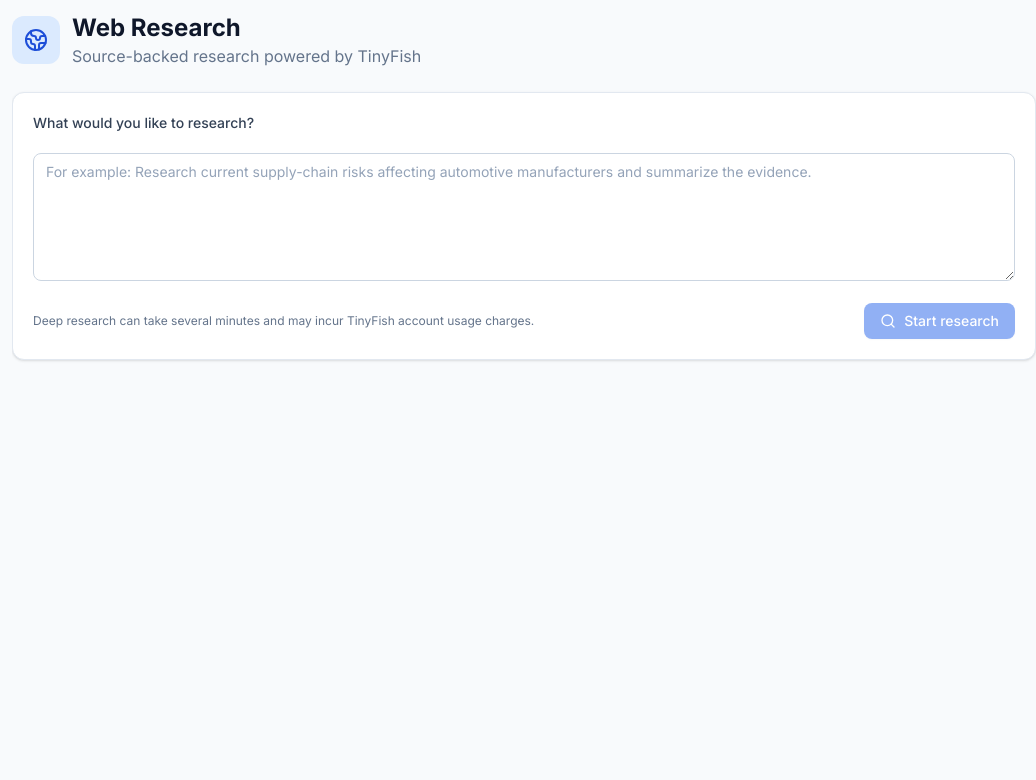
Test: WebResearchPage › submits a research query and displays the report and citations
Replace the text in the text box labelled "What would you like to research?" with "Research manufacturing trends": (524,217) [33,153,1015,281]
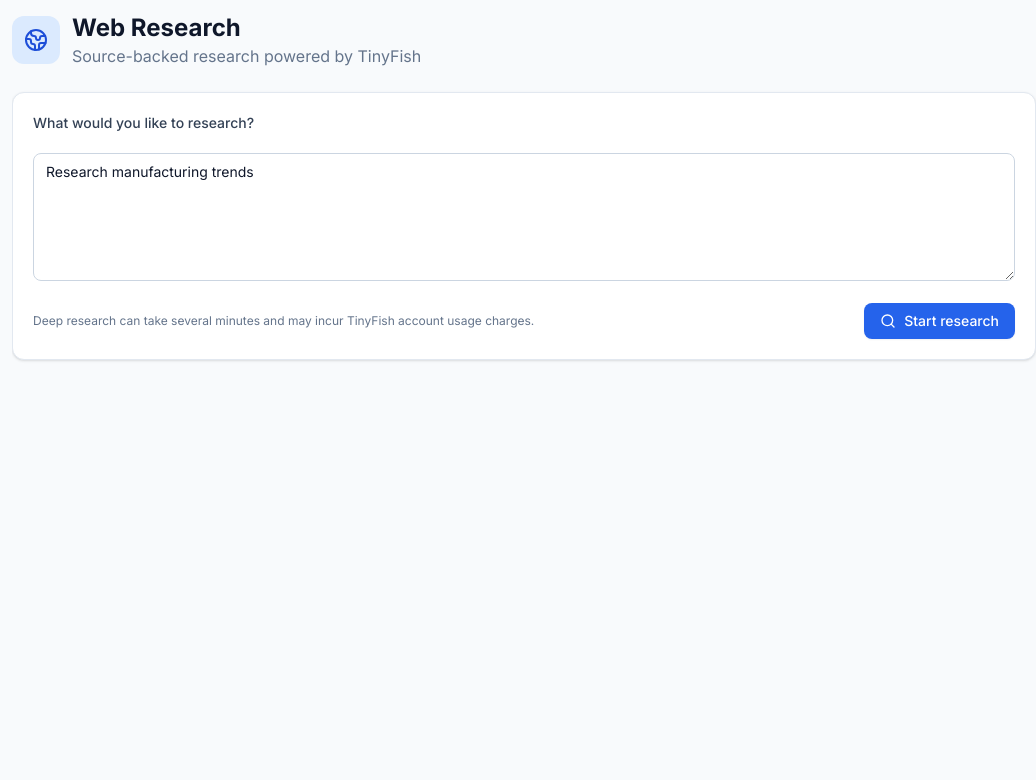
Click the button "Start research": (940,321) [864,303,1015,339]
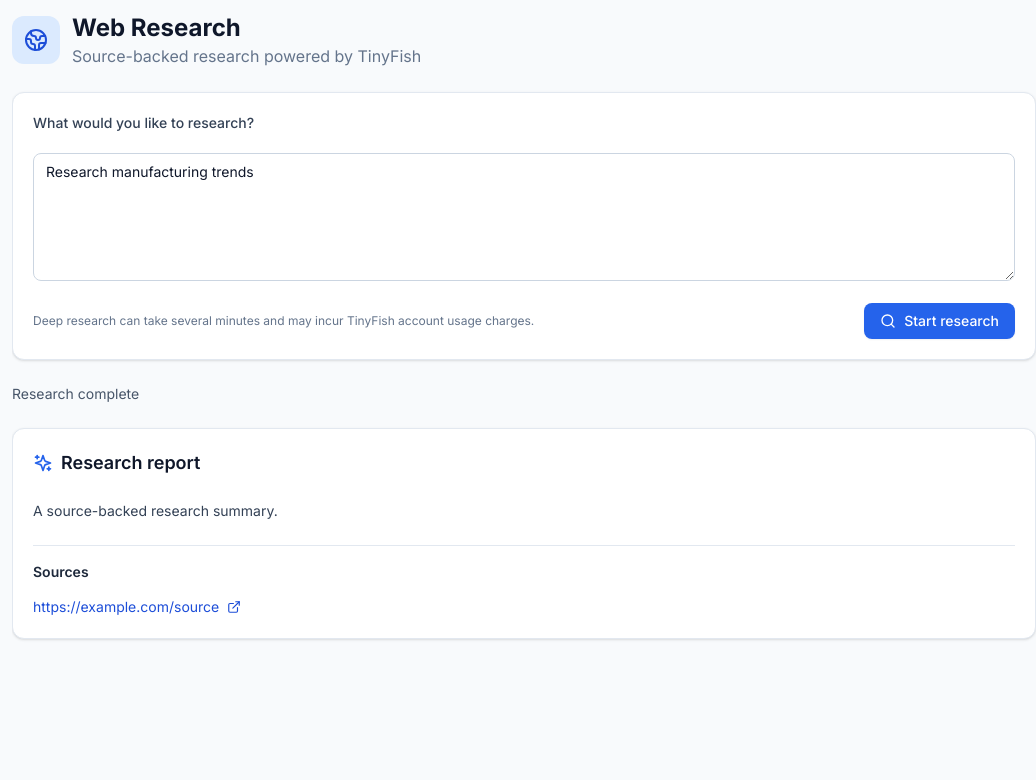
Check: the text "A source-backed research summary." is shown, box [33,502,278,519]
